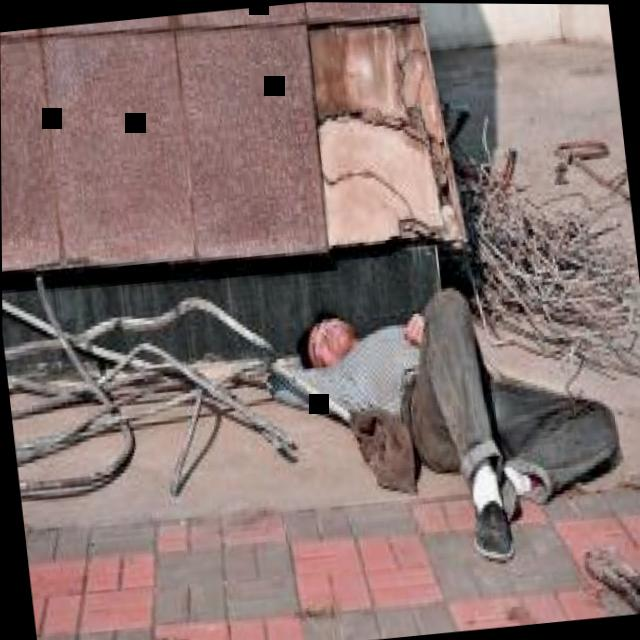Fall-Detected: (267, 244, 640, 581)
